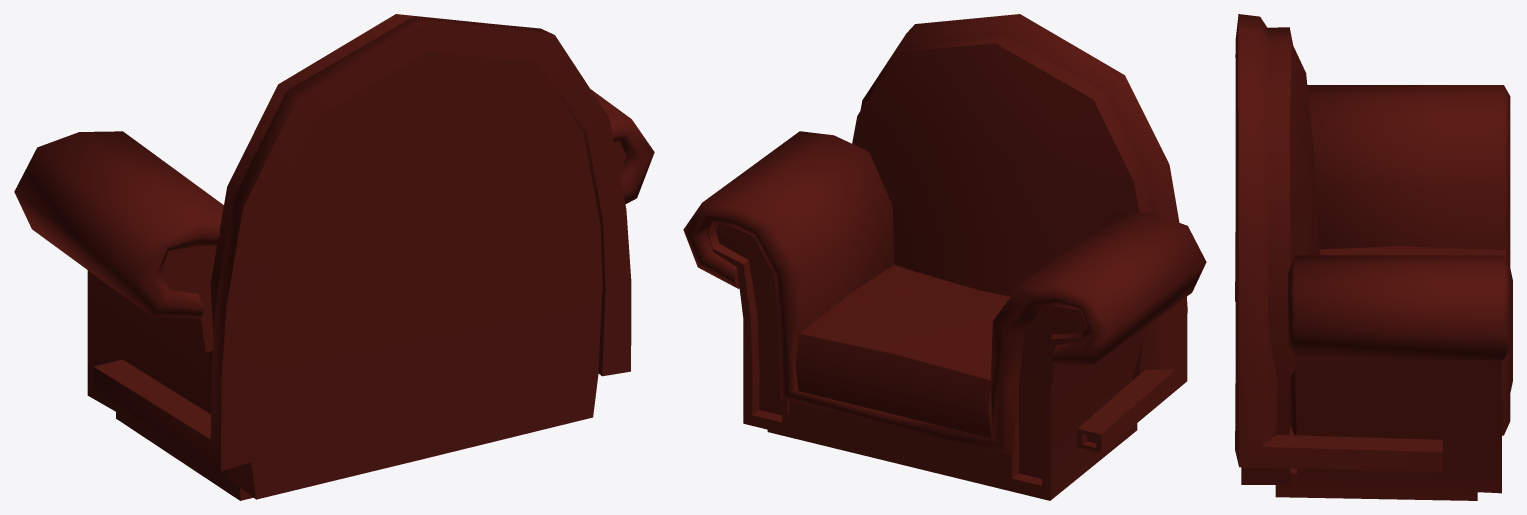
Rendered from SM_ArmChair.fbx.
The picture shows the model from 3 angles, left to right: view 1: azimuth 30°, elevation 25°; view 2: azimuth 150°, elevation 25°; view 3: azimuth 270°, elevation 25°; orthographic projection. The views are drawn at different scales.
Visible parts, largest first — view 1: SM_ArmChair; view 2: SM_ArmChair; view 3: SM_ArmChair.
Part boxes in pixels (<box>): SM_ArmChair: <box>14,14,654,500</box>; SM_ArmChair: <box>683,14,1206,500</box>; SM_ArmChair: <box>1235,14,1512,500</box>.
Size of the model in its own units: 194 by 161 by 102.
